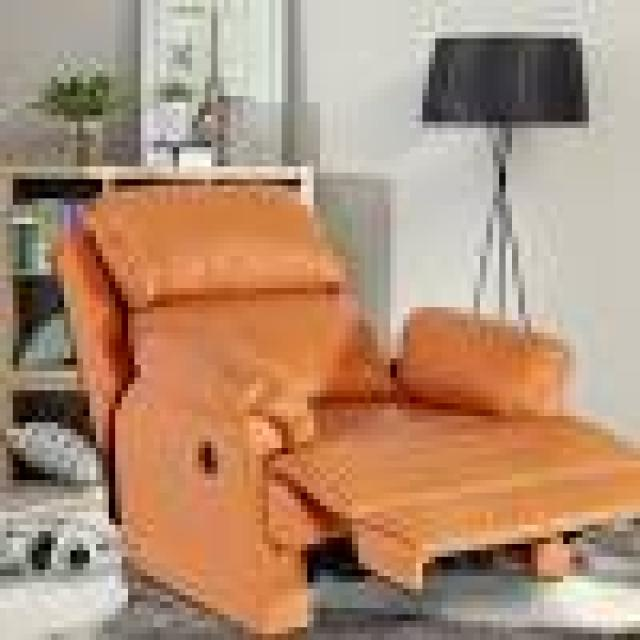chair: (0, 134, 640, 640)
